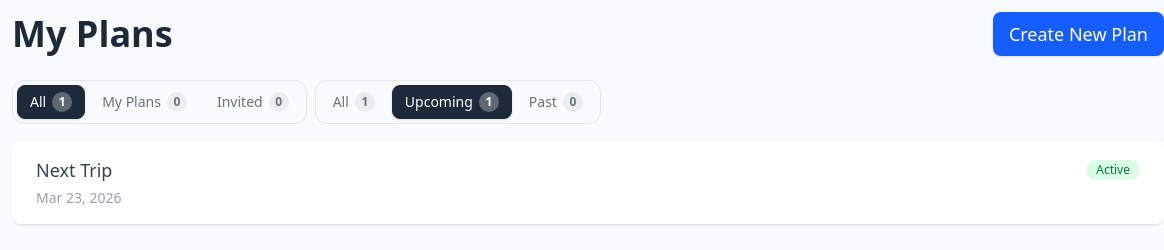
it: PlansList › shows contextual empty message for past filter
Click the tab with test id "time-filter-past".
click(556, 102)  # box [516,85,596,119]
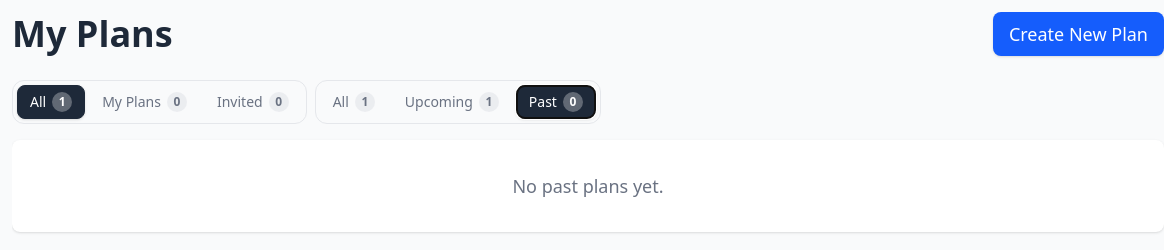
Now the text "No past plans yet." is shown, box [512,174,664,198]
